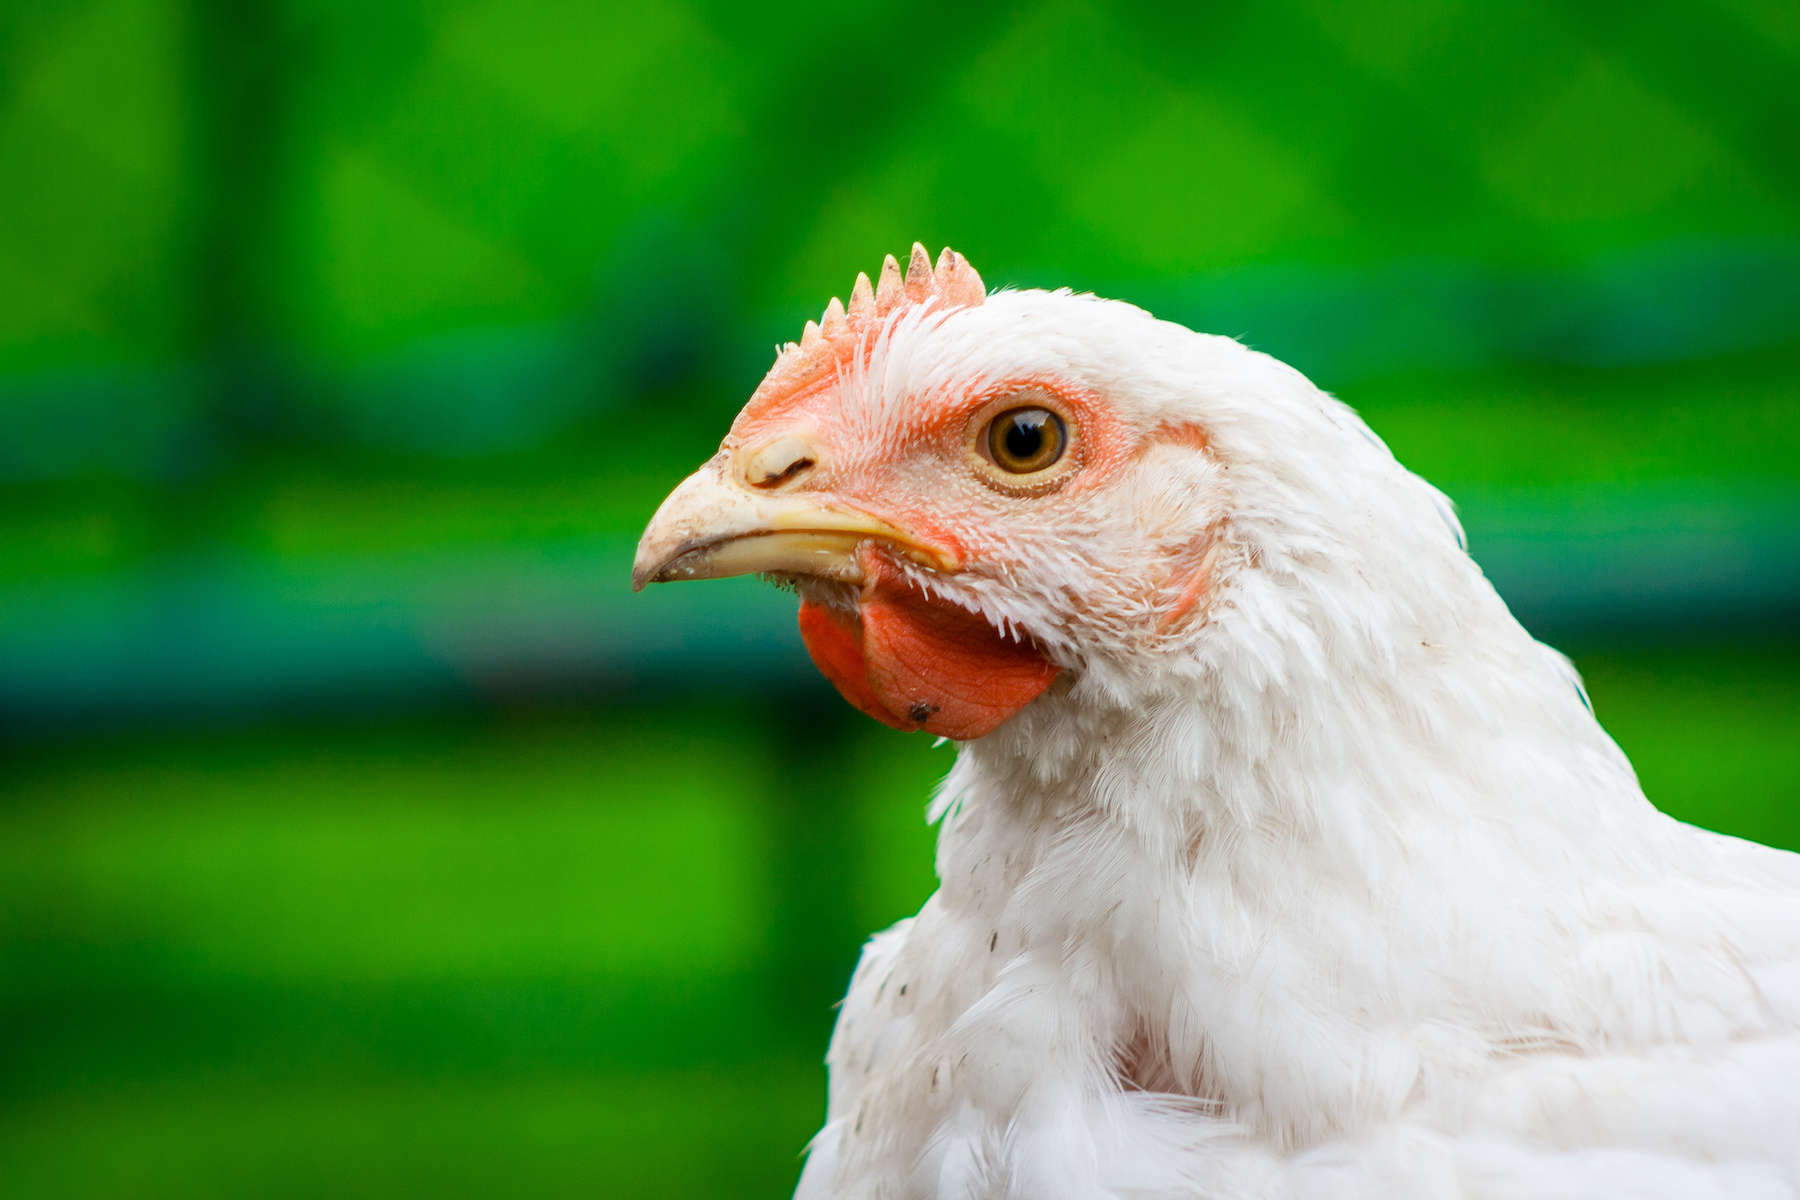Healthy: (597, 187, 1532, 884)
